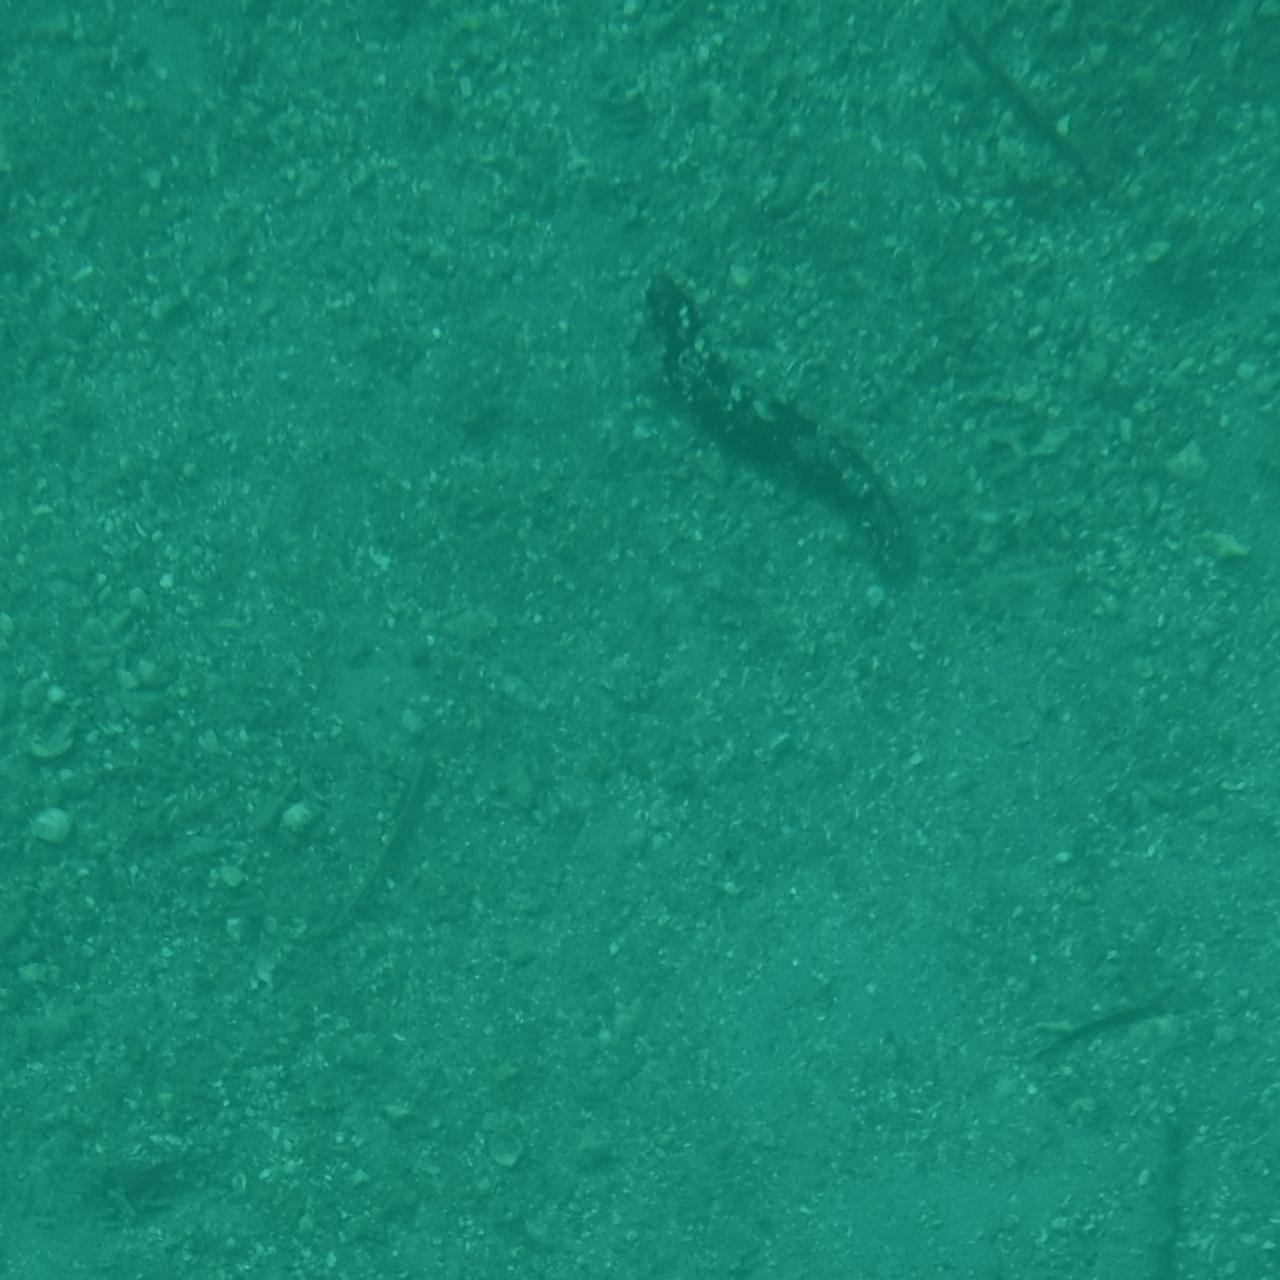Holothuria tubulosa: (645, 260, 937, 596), (960, 1078, 1191, 1280), (1126, 913, 1280, 1195), (0, 132, 217, 304), (1186, 0, 1280, 304), (262, 1087, 403, 1280), (0, 0, 318, 77), (1126, 1123, 1280, 1280), (1193, 0, 1280, 253), (1190, 0, 1280, 198), (0, 0, 203, 83)
